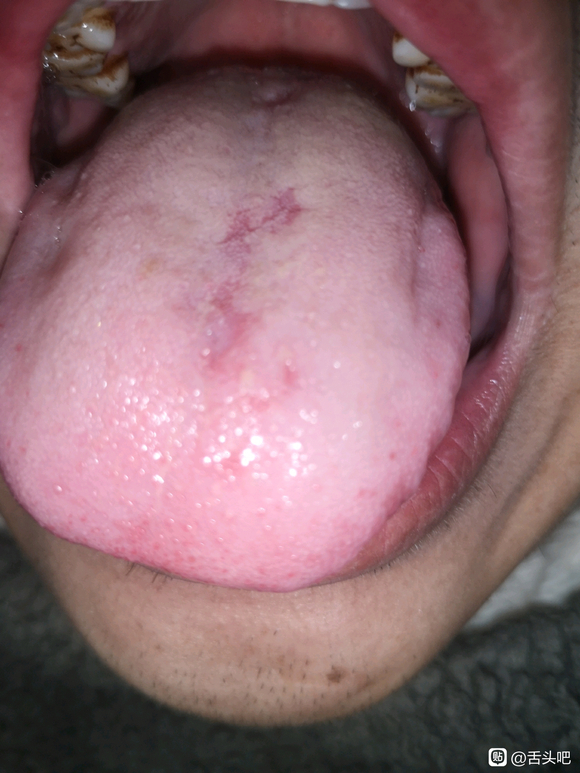baitaishe: (1, 66, 472, 589)
gandanao: (1, 118, 111, 364), (373, 151, 480, 397)
